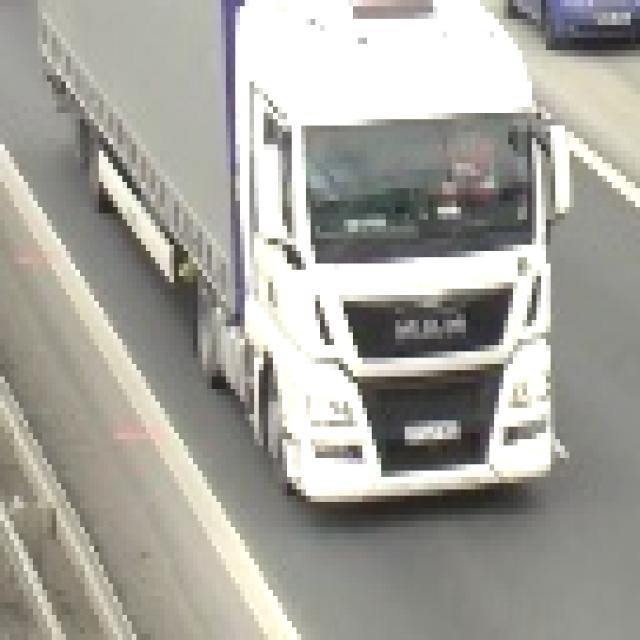TRUCK: (32, 0, 569, 501)
